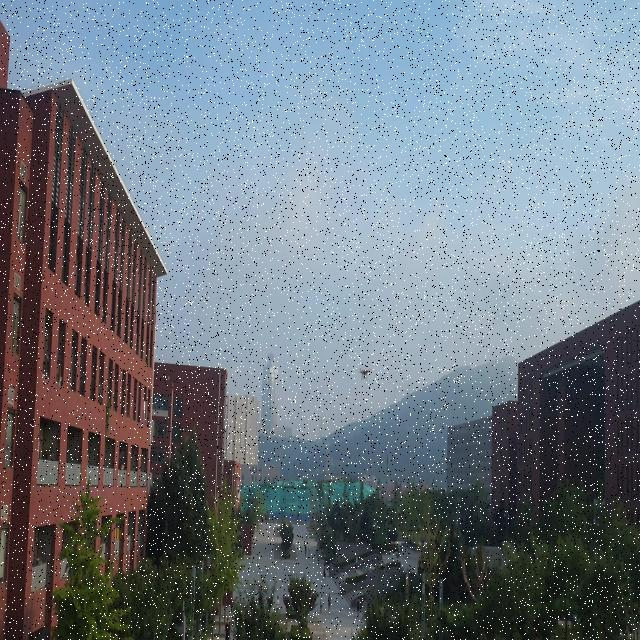UAV: (357, 367, 373, 380)
